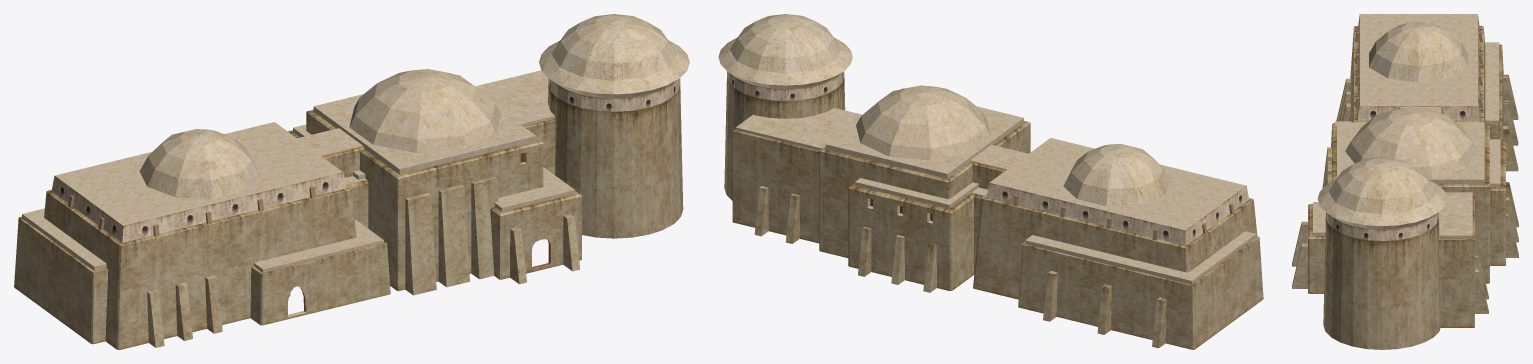
The model's file is thm_tato_block_bldg_64x32_s01_r0_exterior_mesh_exterior_l0.fbx.
3 renders of one model, left to right at view 1: azimuth 30°, elevation 25°; view 2: azimuth 150°, elevation 25°; view 3: azimuth 270°, elevation 25°, orthographic. The views are drawn at different scales.
Visible parts, largest first — view 1: mesh_node; view 2: mesh_node; view 3: mesh_node.
Boxes of the visible parts, <box> form: mesh_node: <box>14,14,689,349</box>; mesh_node: <box>718,14,1263,349</box>; mesh_node: <box>1292,14,1518,349</box>.
Size of the model in its own units: 68.1 by 20.62 by 26.2.
